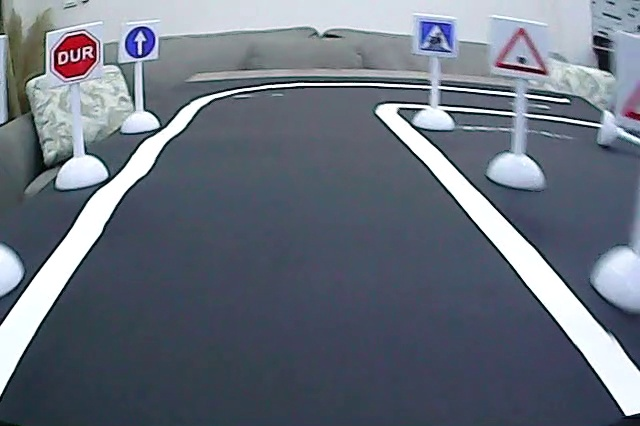green light: (489, 22, 551, 79)
school crossing: (416, 19, 456, 58)
stop sign: (47, 28, 100, 85)
